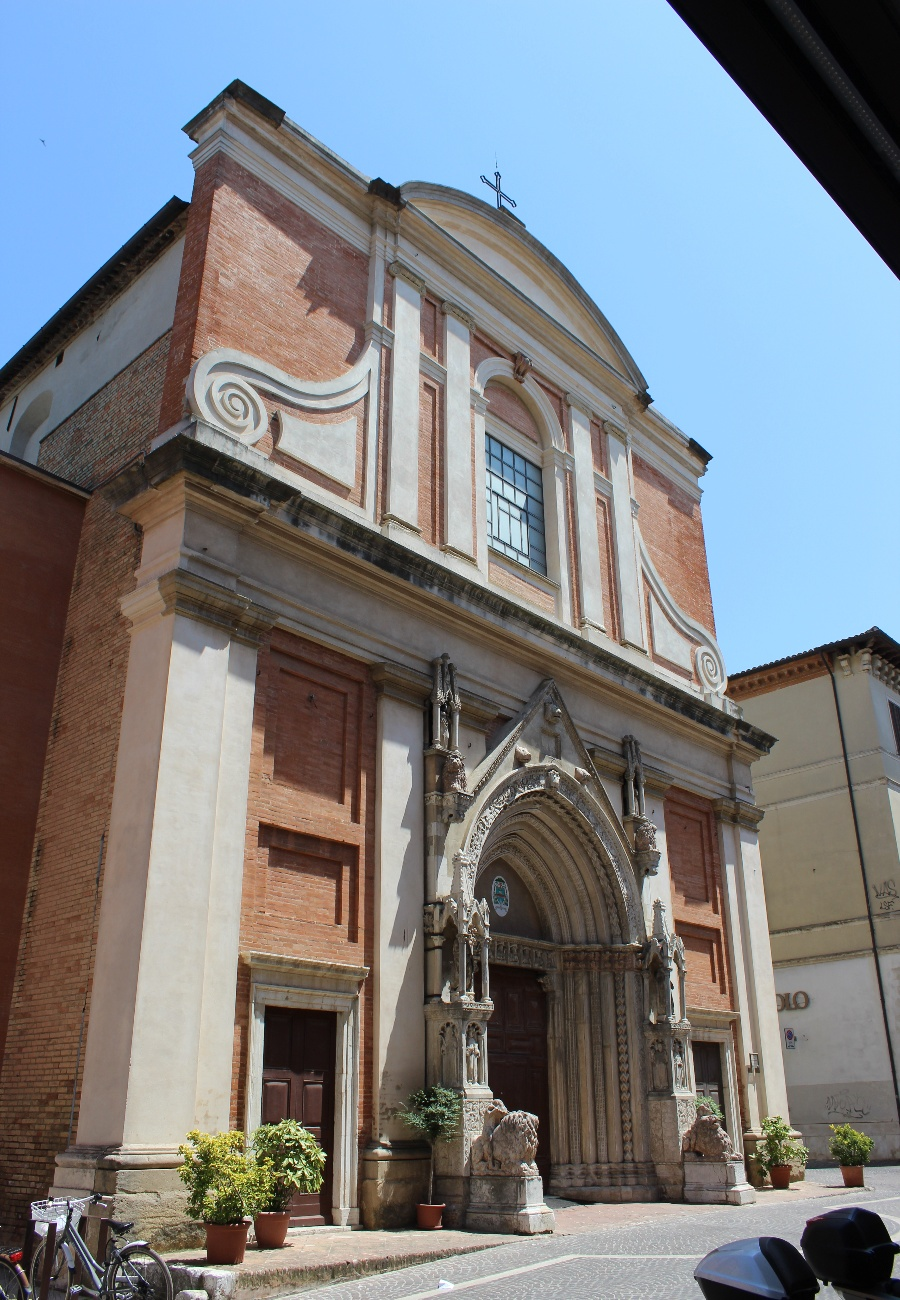Chiesa San Agostino: (107, 76, 808, 1240)
